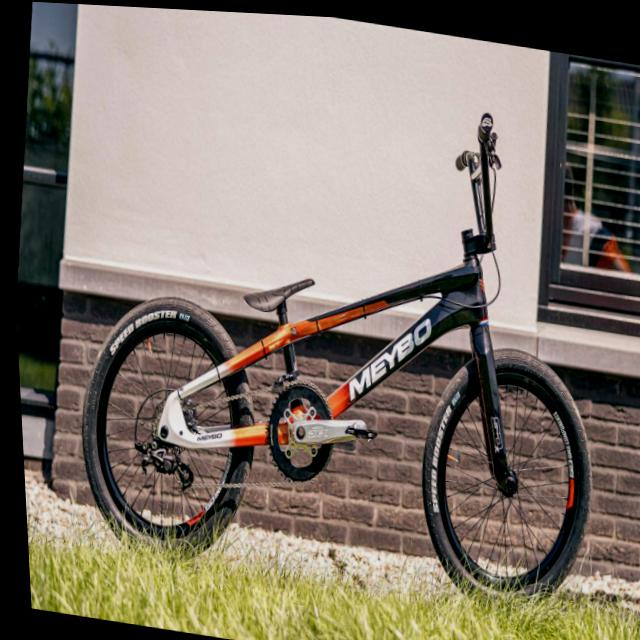bmx-bike: (48, 46, 631, 618)
